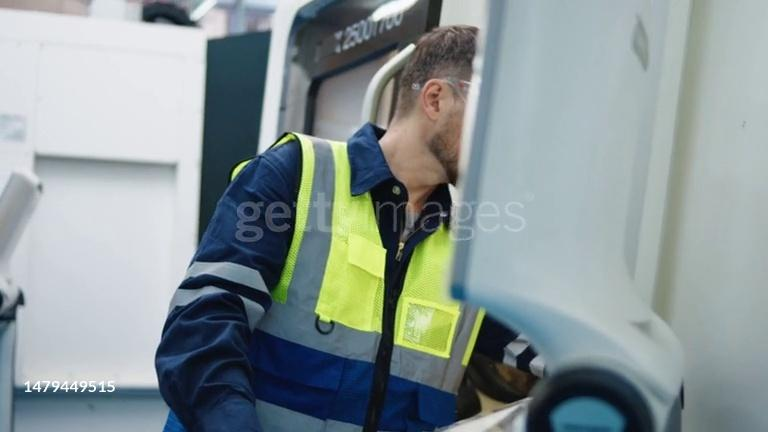person: (155, 21, 540, 432)
